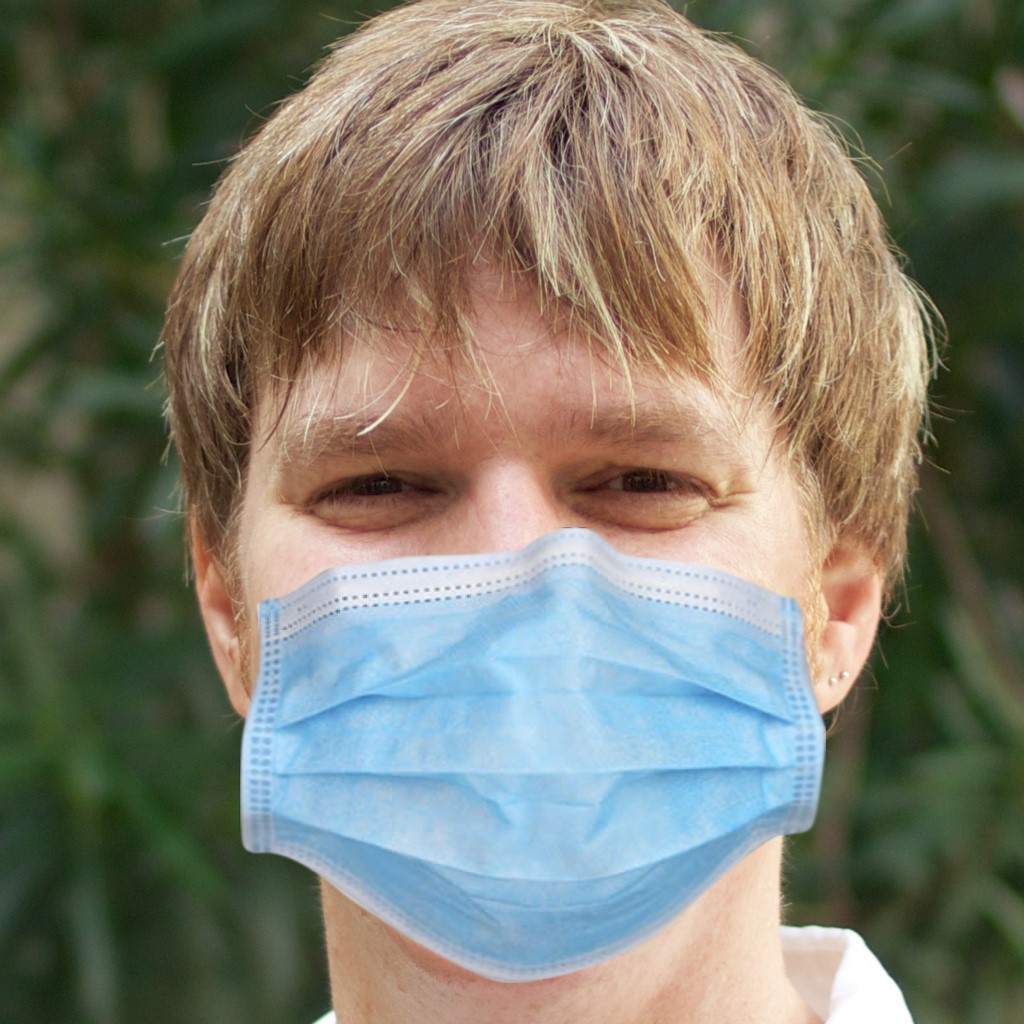con_mascara: (193, 225, 877, 965)
